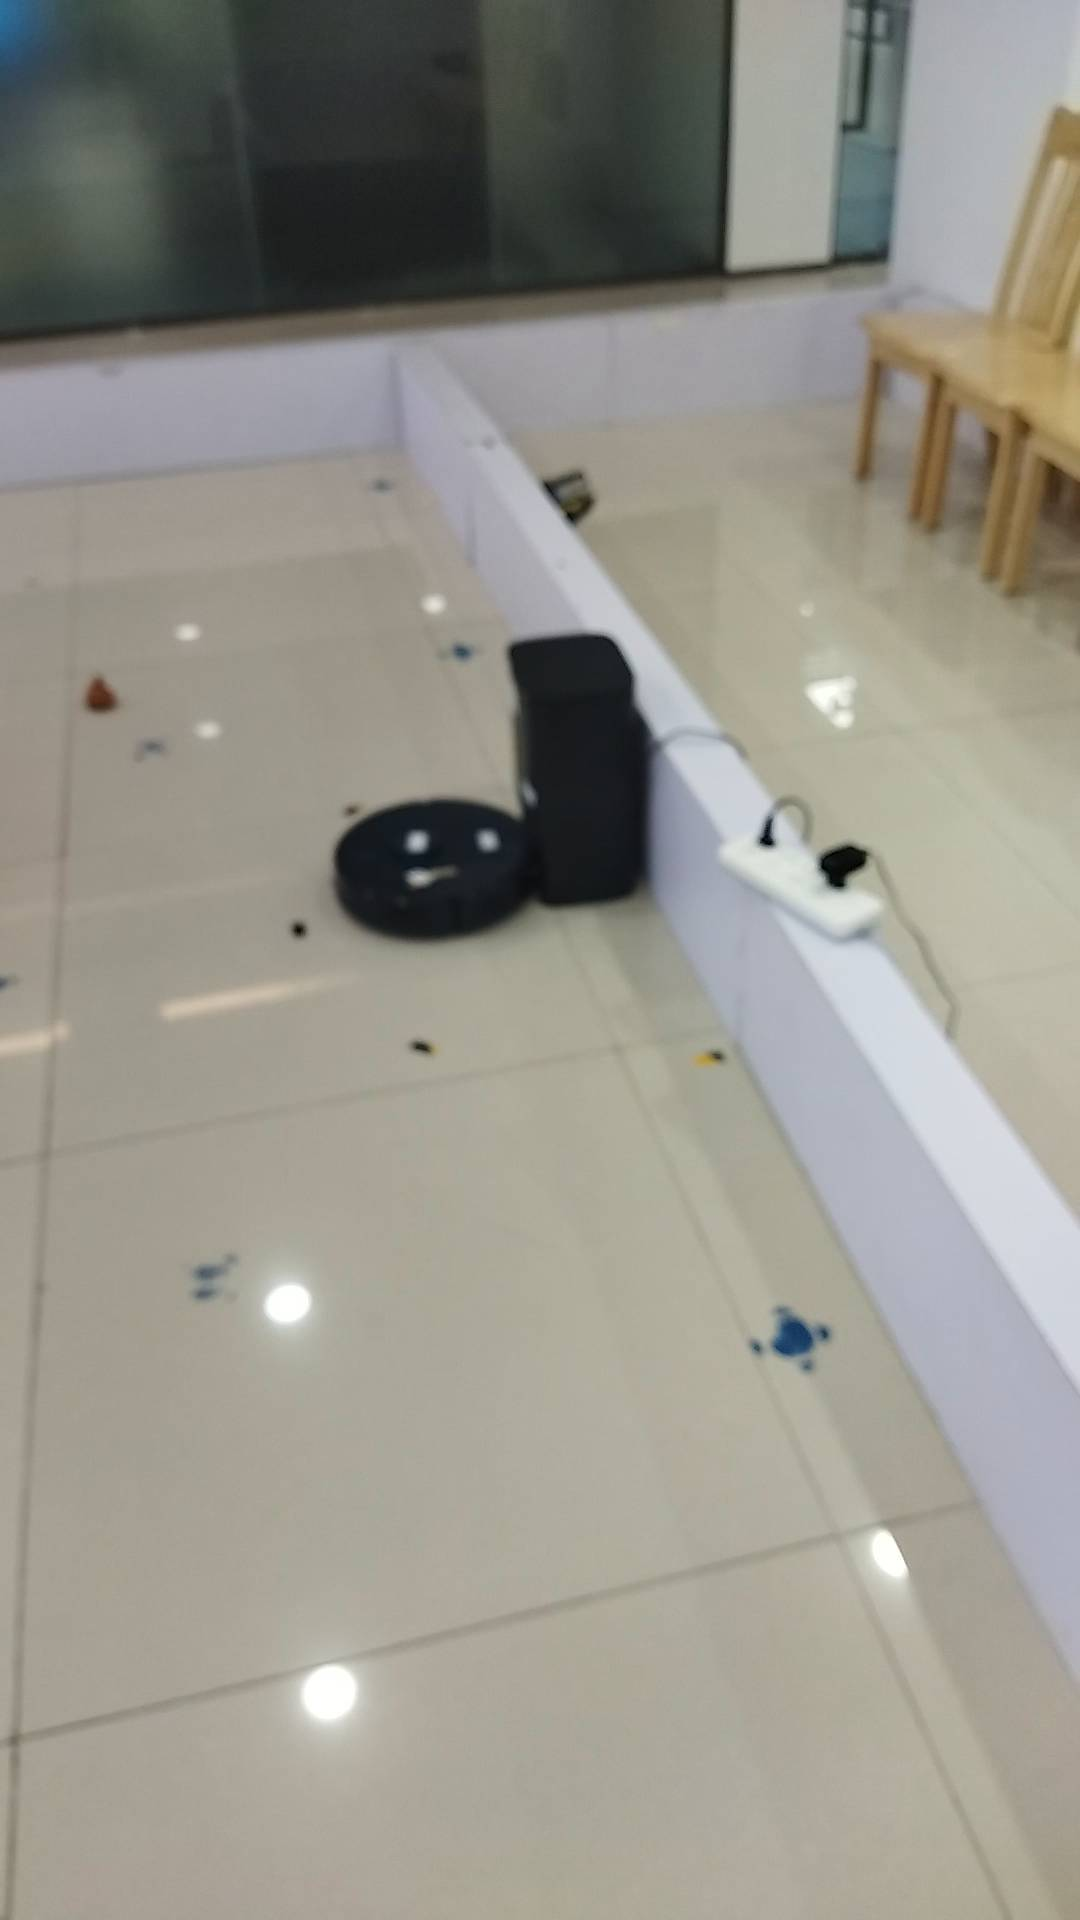dust collecting barrel: (506, 634, 659, 902)
